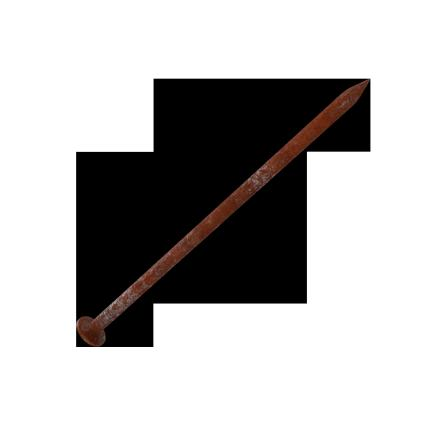karat: (87, 80, 370, 333)
